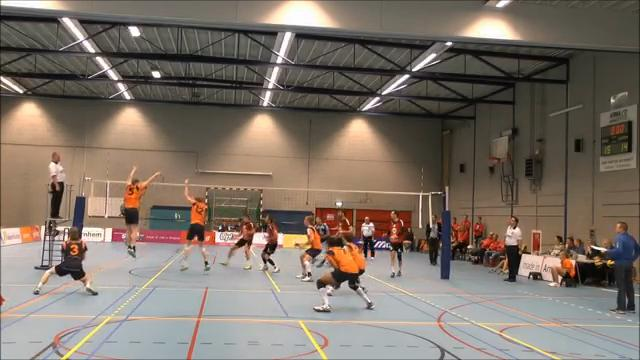Block: (112, 162, 161, 260), (174, 173, 211, 275)
Player: (314, 238, 373, 311), (33, 227, 97, 294), (220, 215, 254, 269), (295, 216, 321, 281), (343, 234, 366, 292), (260, 215, 280, 273), (390, 210, 403, 277), (333, 209, 353, 238), (314, 216, 330, 251)
